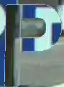Parking: (2, 0, 63, 83)
